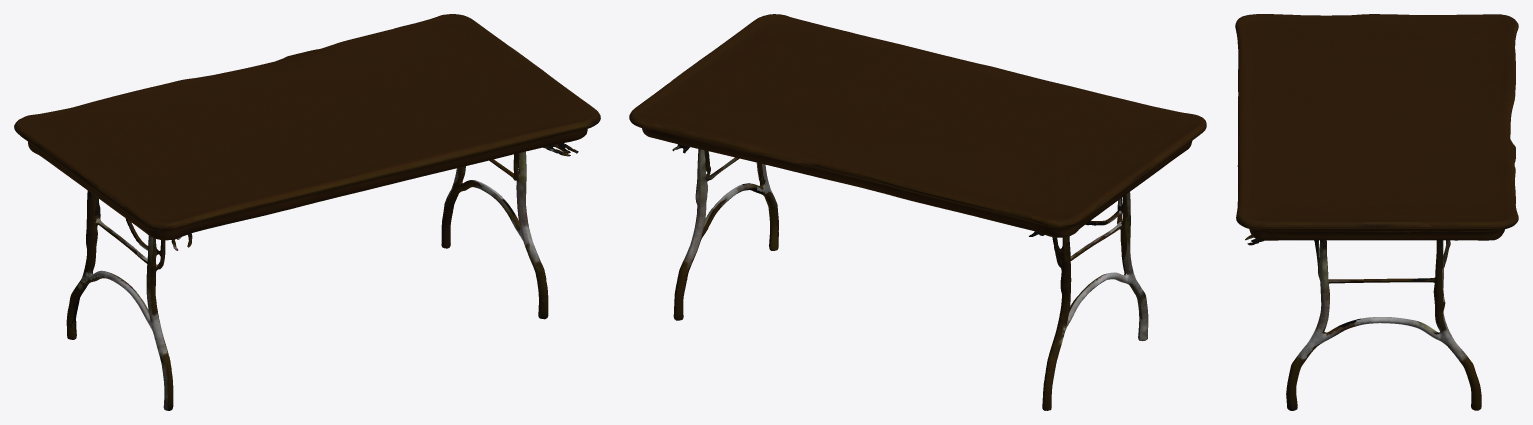
3 renders of one model, left to right at view 1: azimuth 30°, elevation 25°; view 2: azimuth 150°, elevation 25°; view 3: azimuth 270°, elevation 25°, orthographic. The views are drawn at different scales.
Visible parts, largest first — view 1: tmpj8278jp2.ply; view 2: tmpj8278jp2.ply; view 3: tmpj8278jp2.ply.
Boxes of the visible parts, x1,y1,x2,y2 form: tmpj8278jp2.ply: (14, 14, 600, 410); tmpj8278jp2.ply: (629, 14, 1206, 410); tmpj8278jp2.ply: (1235, 14, 1518, 410).
Size of the model in its own units: 1.99 by 0.8941 by 1.13.
1 material, 1 textured.
